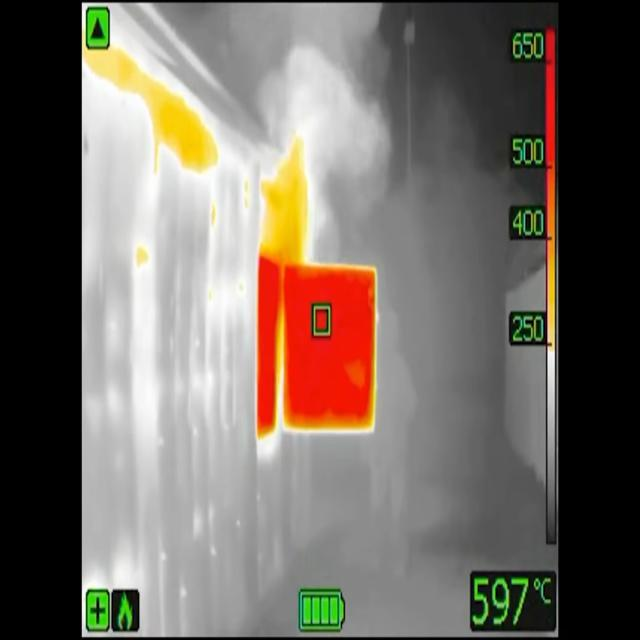fire: (84, 34, 222, 189), (258, 159, 312, 271)
